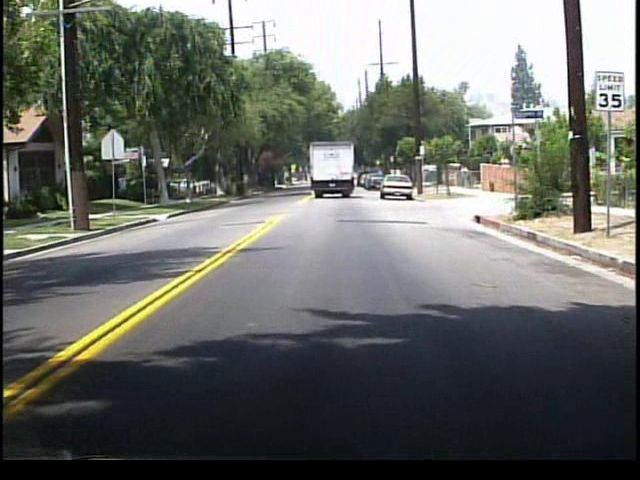person: (458, 164, 470, 190)
